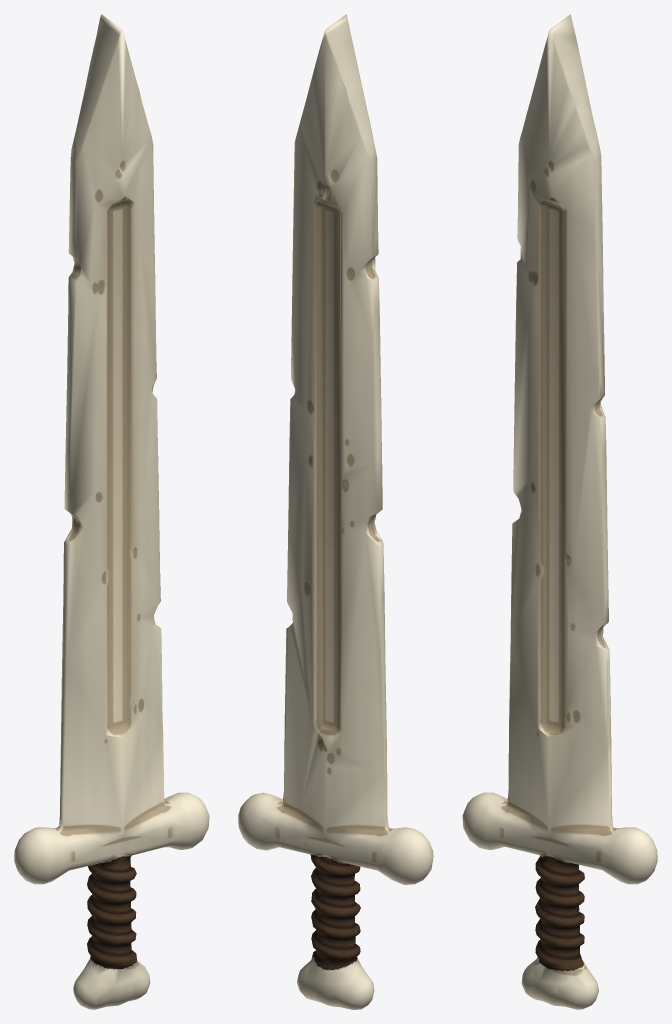
File: weapon_sword_bone.glb
3 views of the same model, side by side, from view 1: azimuth 30°, elevation 25°; view 2: azimuth 150°, elevation 25°; view 3: azimuth 330°, elevation 25° (orthographic).
Visible parts, largest first — view 1: weapon_sword_bone; view 2: weapon_sword_bone; view 3: weapon_sword_bone.
Boxes of the visible parts, box(x1,y1,x2,y2) form: weapon_sword_bone: box(14, 14, 209, 1009); weapon_sword_bone: box(238, 14, 433, 1009); weapon_sword_bone: box(462, 14, 657, 1009).
Size of the model in its own units: 0.2 by 0.9905 by 0.0459.
1 material, 1 textured.
